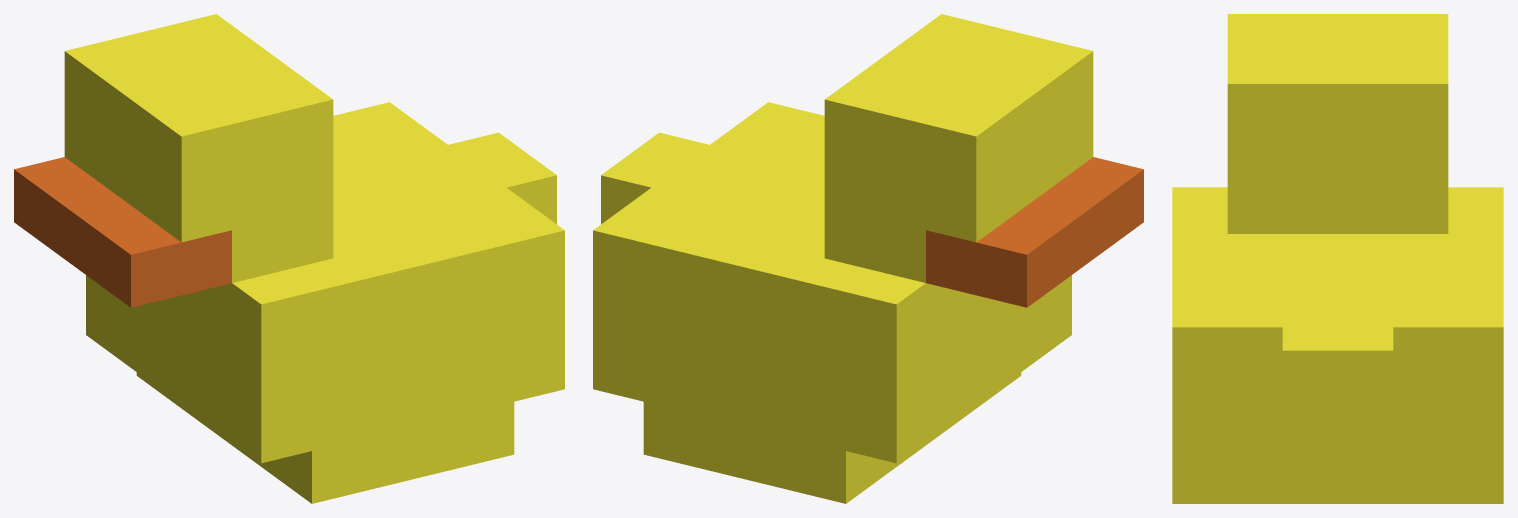
File: ducky.obj
3 renders of one model, left to right at view 1: azimuth 30°, elevation 25°; view 2: azimuth 150°, elevation 25°; view 3: azimuth 270°, elevation 25°, orthographic. The views are drawn at different scales.
Visible parts, largest first — view 1: ducky; view 2: ducky; view 3: ducky.
Boxes of the visible parts, left/top/right/bottom form: ducky: left=14, top=14, right=564, bottom=503; ducky: left=593, top=14, right=1143, bottom=503; ducky: left=1172, top=14, right=1503, bottom=503.
Size of the model in its own units: 9 by 7 by 6.
Materials: 1 (1 with a texture image).
